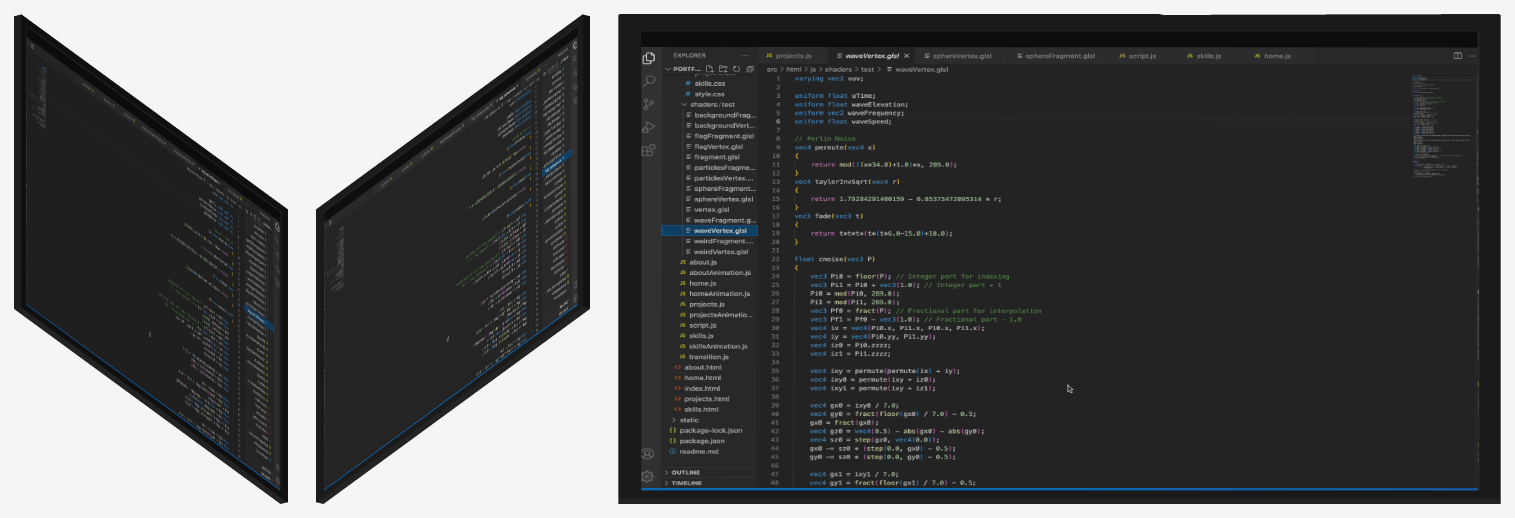
Rendered from animated.glb.
The picture shows the model from 3 angles, left to right: view 1: azimuth 30°, elevation 25°; view 2: azimuth 150°, elevation 25°; view 3: azimuth 270°, elevation 25°; orthographic projection. The views are drawn at different scales.
Visible parts, largest first — view 1: Cube; view 2: Cube; view 3: Cube.
Part boxes in pixels (x1,y1,x2,y2): Cube: (14,14,287,503); Cube: (316,14,589,503); Cube: (618,14,1500,503).
Bounding box in the file's own units: 0.0606 × 2.44 × 4.03.
2 materials, 1 textured.
